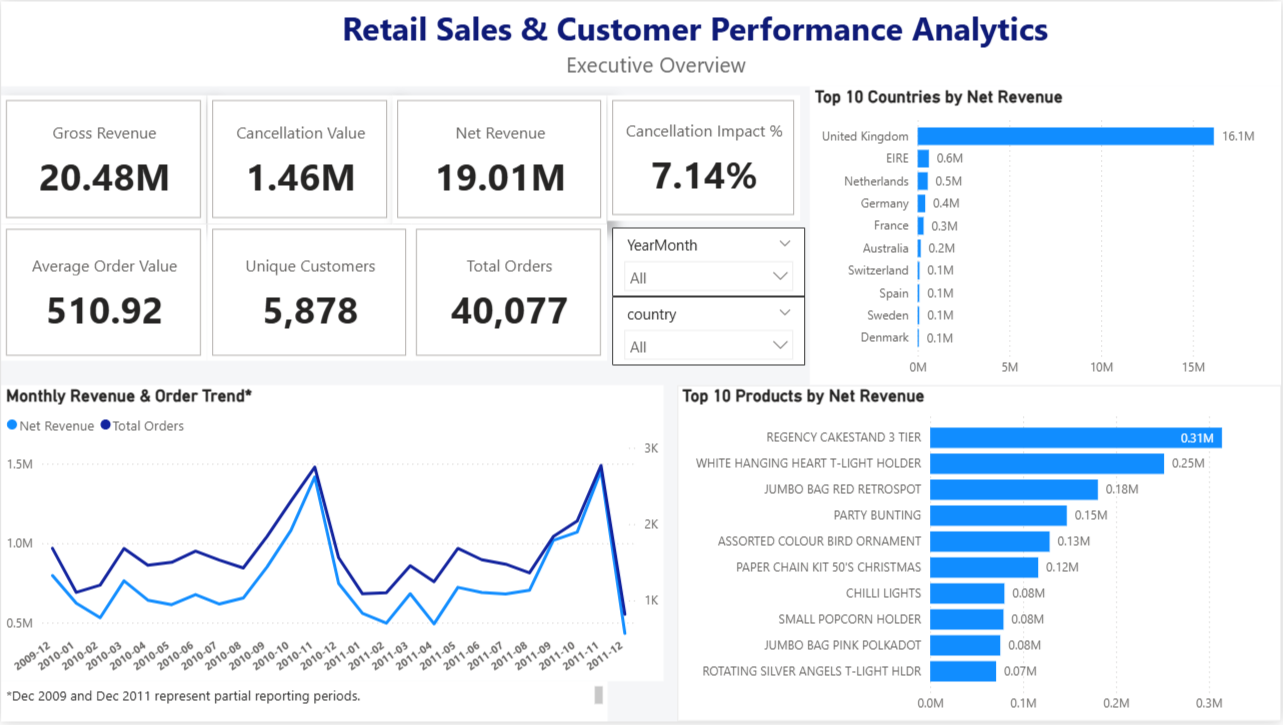

The dashboard page shown, as its layout file describes it:
{"tool":"powerbi","page":{"name":"Executive Overview","canvas":[1280,720],"ordinal":0},"visuals":[{"type":"cardVisual","fields":{"Data":["DimCountry.Gross Revenue"]},"box":[0,94.3,205.7,128.6],"z":0},{"type":"cardVisual","fields":{"Data":["DimCountry.Cancellation Value"]},"box":[205.7,94.3,185.7,128.6],"z":1000},{"type":"cardVisual","fields":{"Data":["DimCountry.Net Revenue"]},"box":[391.4,94.3,214.3,128.6],"z":2000},{"type":"cardVisual","fields":{"Data":["DimCountry.Total Orders"]},"box":[410,222.9,195.7,137.1],"z":3000},{"type":"cardVisual","fields":{"Data":["DimCountry.Unique Customers"]},"box":[205.7,222.9,204.3,137.1],"z":4000},{"type":"cardVisual","fields":{"Data":["DimCountry.Average Order Value"]},"box":[0,222.9,205.7,137.1],"z":5000},{"type":"cardVisual","fields":{"Data":["DimCountry.Cancellation Impact %"]},"box":[605.7,94.3,192.9,125.7],"z":6000},{"type":"lineChart","title":"Monthly Revenue & Order Trend*","fields":{"Category":["DimDate.YearMonth"],"Y":["DimCountry.Net Revenue"],"Y2":["DimCountry.Total Orders"]},"box":[0,383.8,662.5,296.2],"z":7000},{"type":"clusteredBarChart","title":"Top 10 Products by Net Revenue","fields":{"Category":["DimProduct.description"],"Y":["DimCountry.Net Revenue"]},"box":[676.2,383.8,603.8,336.2],"z":8000},{"type":"barChart","title":"Top 10 Countries by Net Revenue","fields":{"Category":["DimCountry.country"],"Y":["DimCountry.Net Revenue"]},"box":[808.8,85,471.2,298.8],"z":9000},{"type":"textbox","box":[0,0,1280,85],"z":10000},{"type":"slicer","fields":{"Values":["DimDate.YearMonth"]},"box":[610.7,226.9,192.9,68.6],"z":11000},{"type":"slicer","fields":{"Values":["DimCountry.country"]},"box":[610.7,295.4,192.9,68.6],"z":12000},{"type":"textbox","box":[0,680,606.2,40],"z":13000}]}

Visuals, with their boxes in screenshot pixels (x1, y1, x2, y2), scaled from the page's 1280x720 canvas onto the 1283x725 screenshot:
cardVisual - DimCountry.Gross Revenue: pyautogui.locateOnScreen(0, 95, 206, 224)
cardVisual - DimCountry.Cancellation Value: pyautogui.locateOnScreen(206, 95, 392, 224)
cardVisual - DimCountry.Net Revenue: pyautogui.locateOnScreen(392, 95, 607, 224)
cardVisual - DimCountry.Total Orders: pyautogui.locateOnScreen(411, 224, 607, 362)
cardVisual - DimCountry.Unique Customers: pyautogui.locateOnScreen(206, 224, 411, 362)
cardVisual - DimCountry.Average Order Value: pyautogui.locateOnScreen(0, 224, 206, 362)
cardVisual - DimCountry.Cancellation Impact %: pyautogui.locateOnScreen(607, 95, 800, 222)
"Monthly Revenue & Order Trend*" lineChart: pyautogui.locateOnScreen(0, 386, 664, 685)
"Top 10 Products by Net Revenue" clusteredBarChart: pyautogui.locateOnScreen(678, 386, 1282, 724)
"Top 10 Countries by Net Revenue" barChart: pyautogui.locateOnScreen(811, 86, 1282, 386)
textbox: pyautogui.locateOnScreen(0, 0, 1282, 86)
slicer - DimDate.YearMonth: pyautogui.locateOnScreen(612, 228, 805, 298)
slicer - DimCountry.country: pyautogui.locateOnScreen(612, 297, 805, 367)
textbox: pyautogui.locateOnScreen(0, 685, 608, 724)
